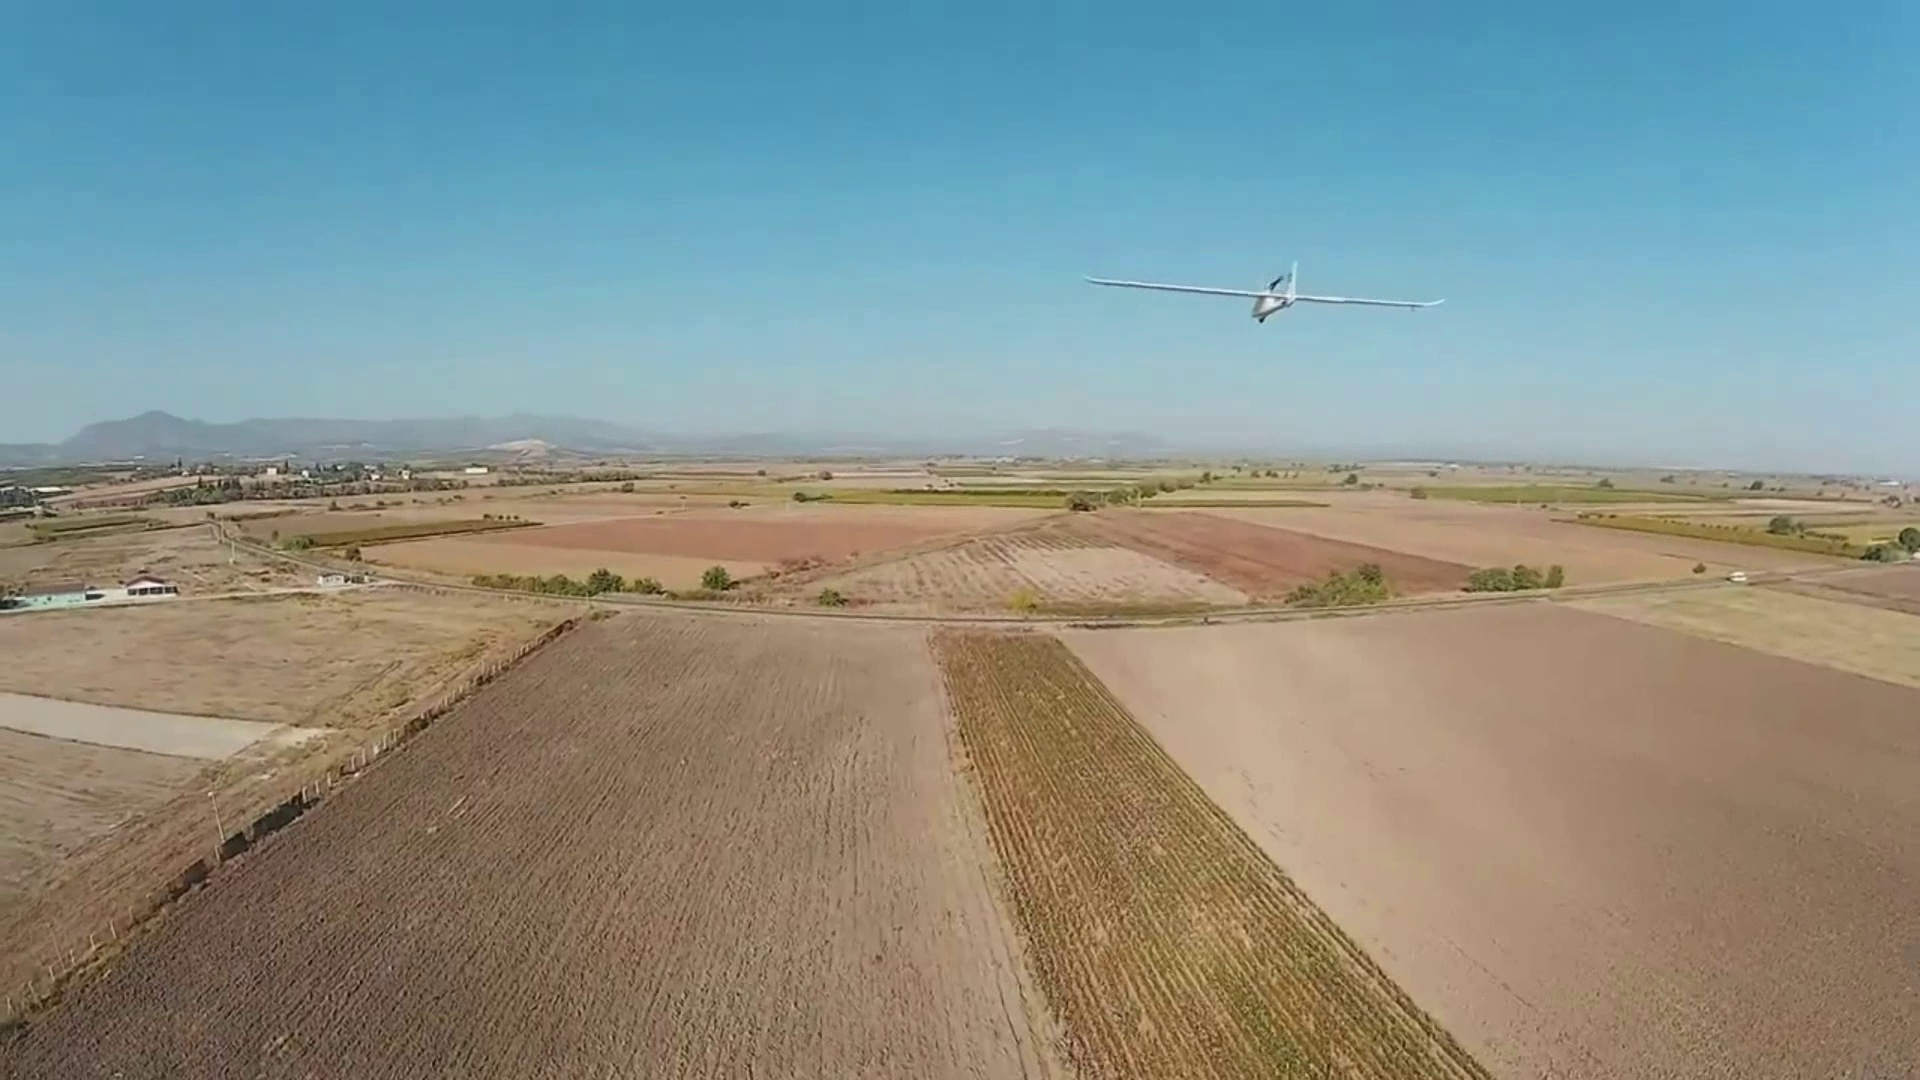airplane: (1080, 260, 1443, 321)
